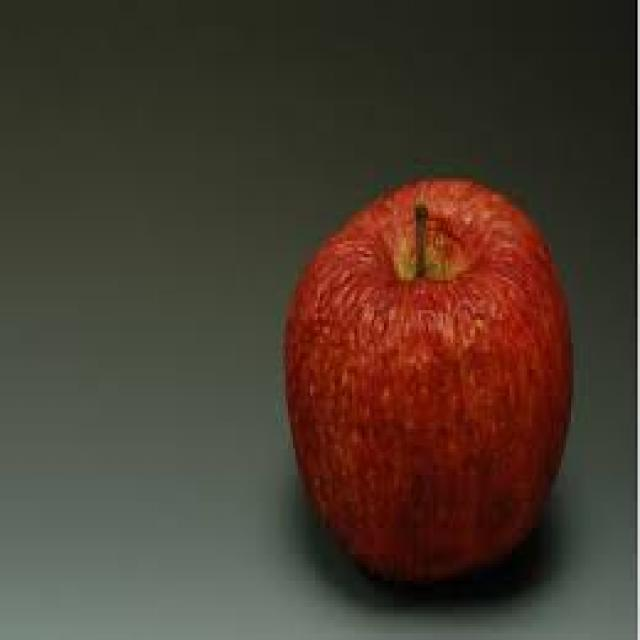organic waste: (281, 174, 568, 580)
